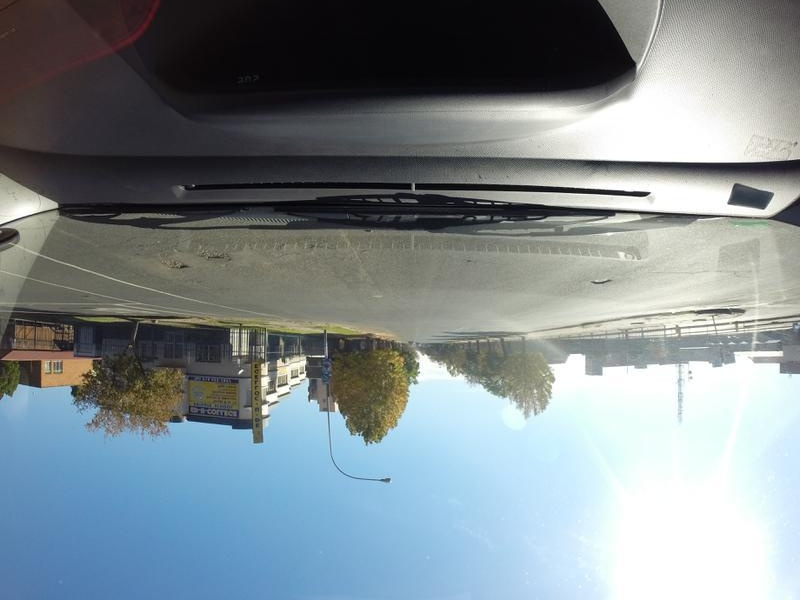pothole: (203, 243, 228, 266), (160, 259, 194, 273), (589, 276, 610, 287)
